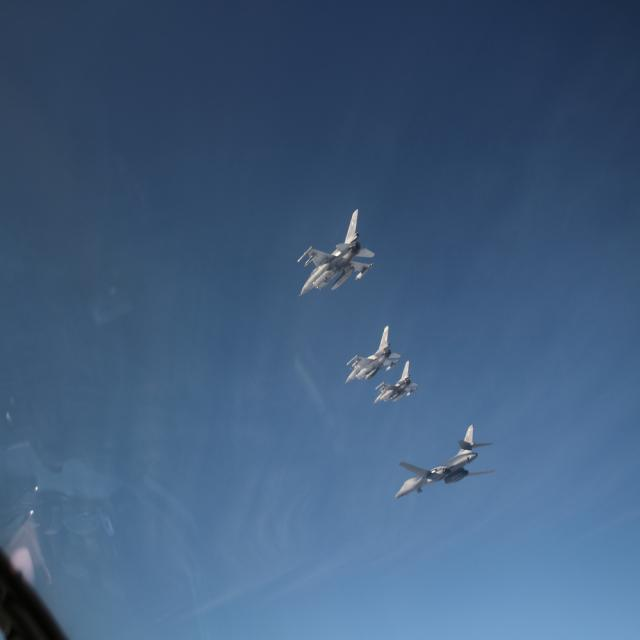MIL_Plane: (394, 420, 497, 490), (296, 208, 376, 298), (344, 324, 401, 385), (372, 360, 418, 405)
